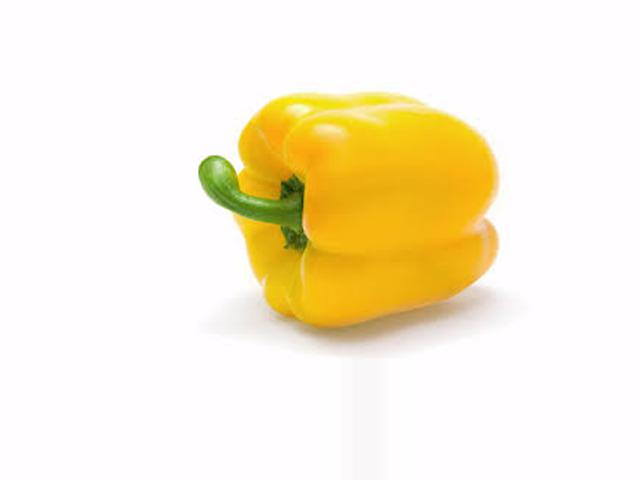bell_pepper: (171, 79, 507, 325)
